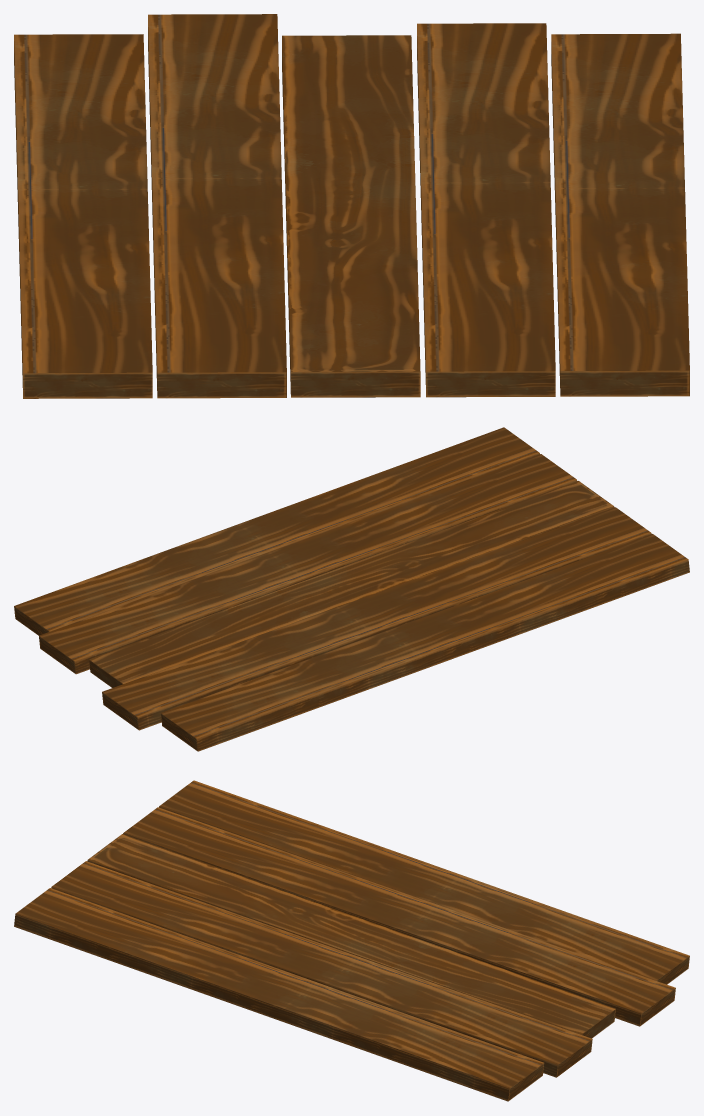
3 views of the same model, one above another, from view 1: azimuth 30°, elevation 25°; view 2: azimuth 150°, elevation 25°; view 3: azimuth 270°, elevation 25° (orthographic). The views are drawn at different scales.
Visible parts, largest first — view 1: Cube.1950; view 2: Cube.1950; view 3: Cube.1950.
Boxes of the visible parts, left/top/right/bottom form: Cube.1950: left=14, top=14, right=689, bottom=398; Cube.1950: left=14, top=427, right=689, bottom=751; Cube.1950: left=14, top=780, right=689, bottom=1101.
Bounding box in the file's own units: 527 × 68.35 × 598.
Materials: 1 (1 with a texture image).
